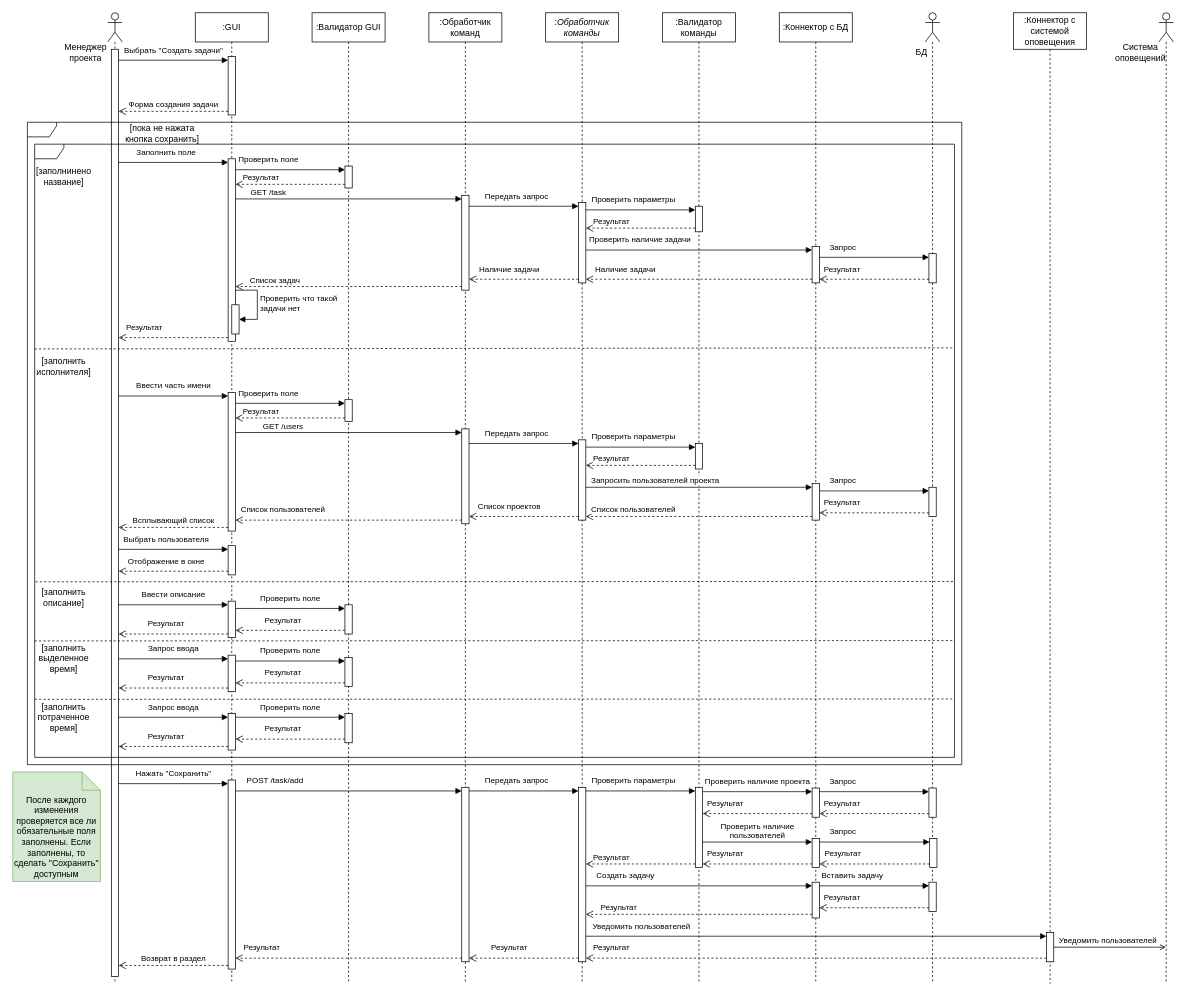
This 1186x996 diagram has some shape labels left out. The box of each missing label's shape, as (x1, y1, x2, y2) in pixels:
alt: (34, 143, 954, 757)
loop: (27, 122, 962, 765)
